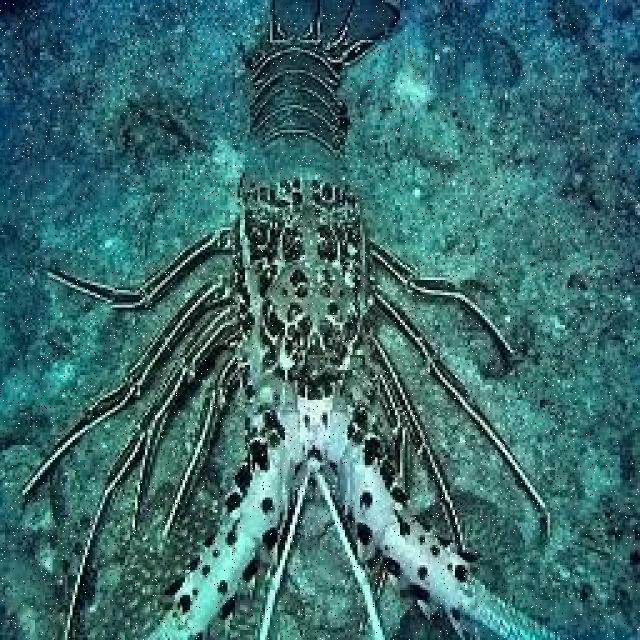reefs: (21, 0, 572, 638)
